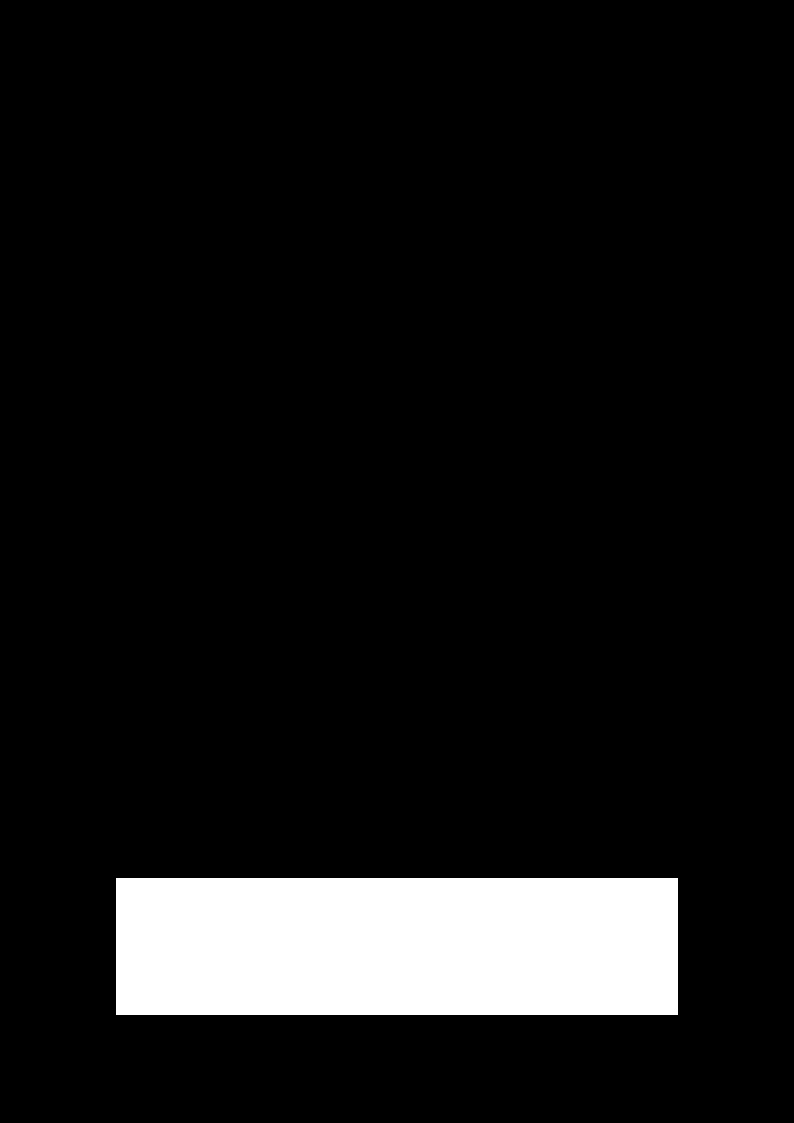table: (116, 878, 677, 1014)
